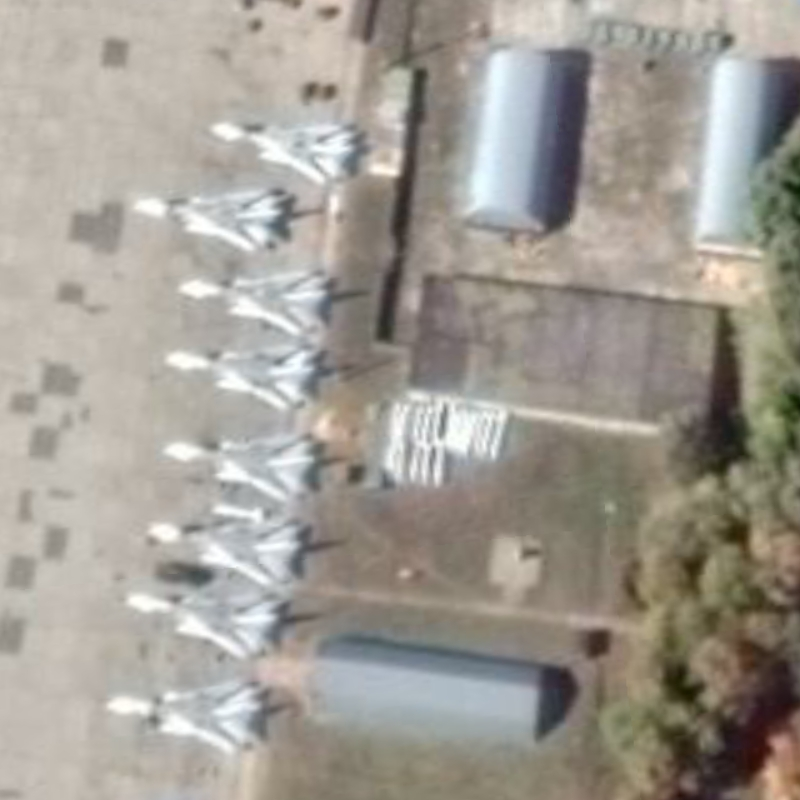A20: (103, 676, 265, 756), (145, 513, 304, 588), (163, 341, 319, 413), (160, 431, 316, 503), (125, 589, 280, 661), (177, 267, 331, 339), (130, 187, 285, 255), (207, 119, 359, 186)
